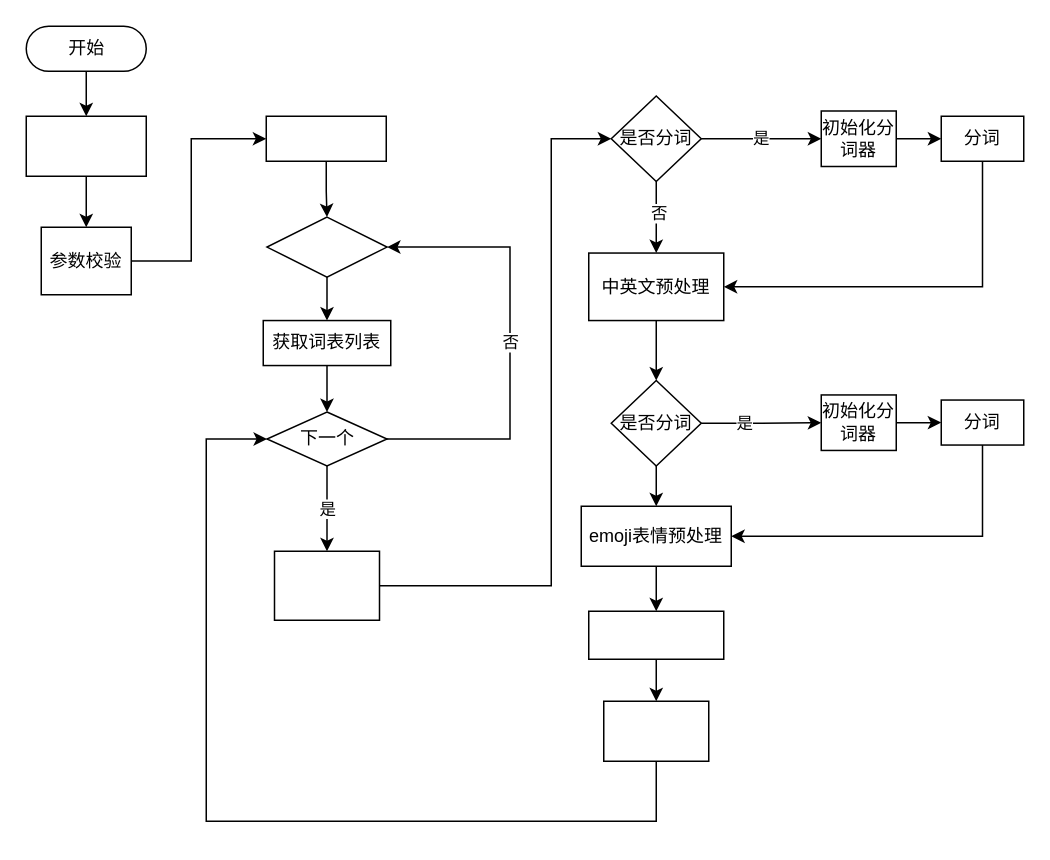
Some shapes in this 1050 by 860 pixel diagram are drawn without their labels. Each missing label, with the centre of its shape:
下一条: point (326, 246)
合并结果: point (655, 730)
文本检索: point (655, 634)
检索文本列表: point (325, 138)
检索服务接口: point (85, 145)
特殊符号预处理: point (326, 585)
